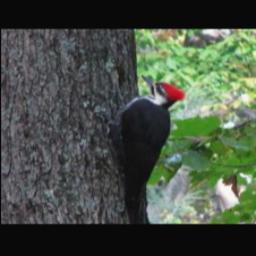Woodpecker: (95, 74, 189, 223)
